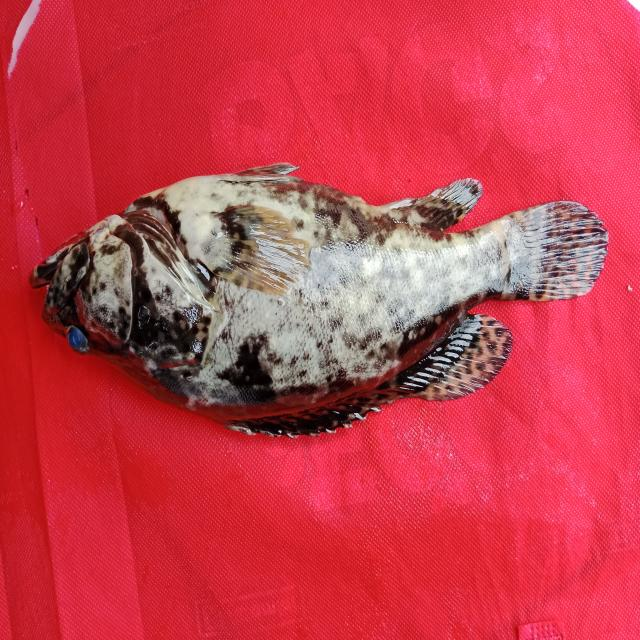ikan: (22, 137, 618, 452)
